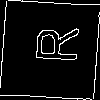R: (24, 25, 80, 64)
